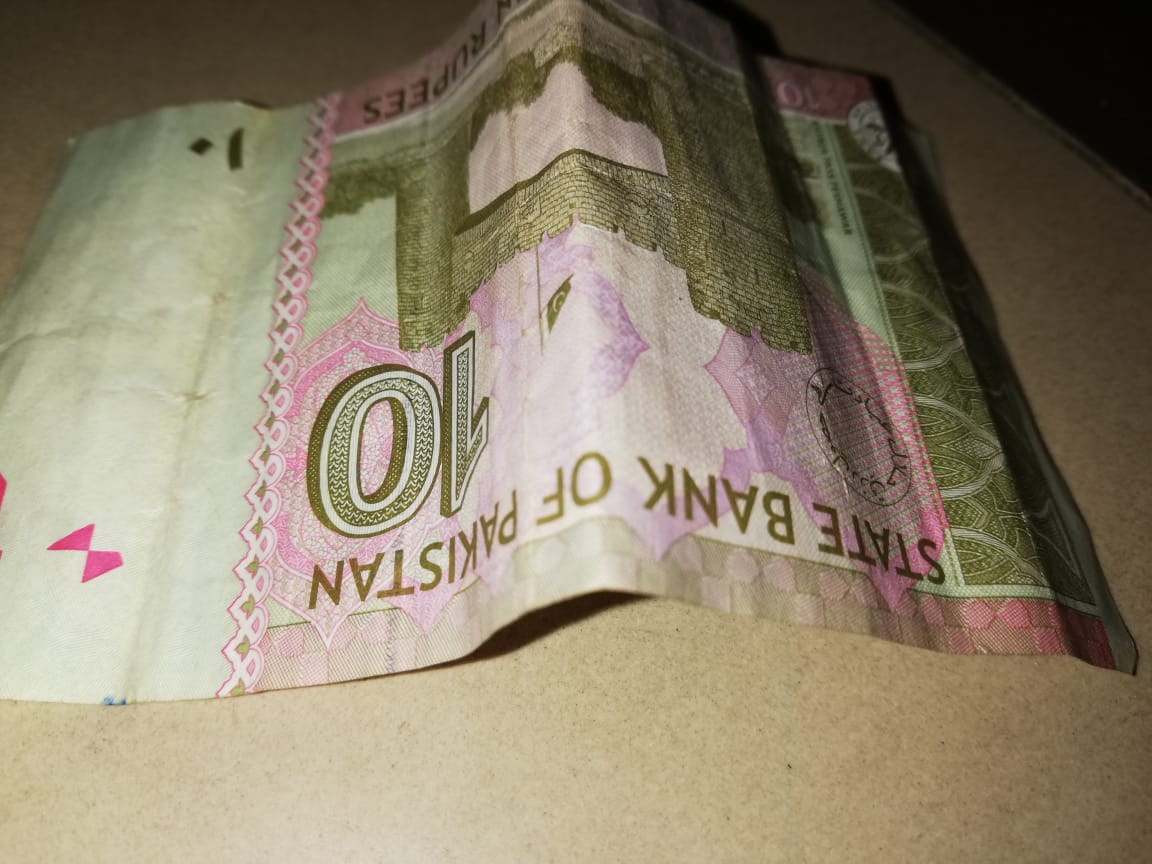10 rupee: (8, 29, 1118, 711)
